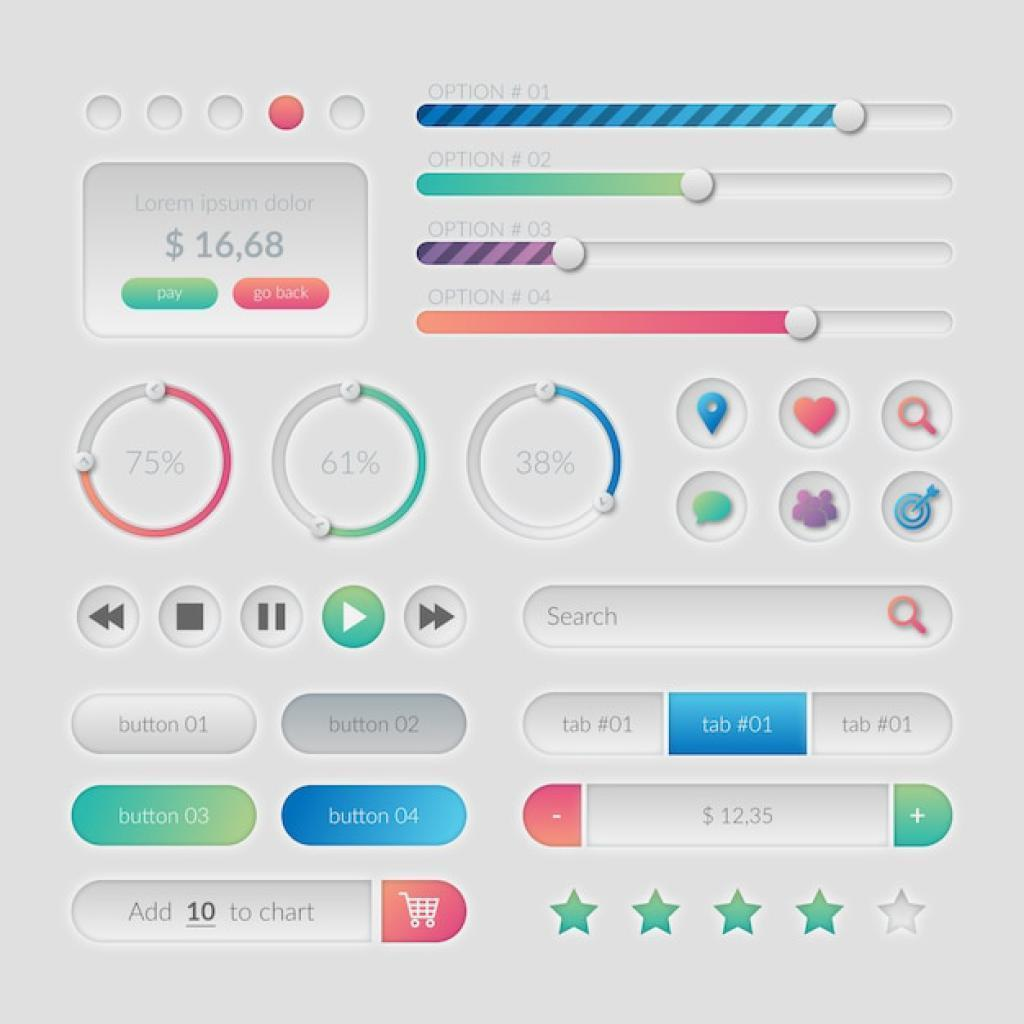button: (74, 881, 372, 942), (281, 787, 475, 852), (280, 691, 469, 755), (72, 787, 259, 848), (74, 695, 257, 755), (670, 694, 809, 759), (525, 694, 663, 756), (817, 694, 955, 755)
icon: (781, 470, 852, 546), (884, 377, 953, 455), (782, 377, 852, 449), (678, 380, 749, 448), (884, 474, 954, 542), (404, 584, 469, 654), (241, 585, 306, 652), (77, 583, 140, 650), (680, 472, 742, 537), (322, 587, 387, 649), (160, 587, 221, 650)
input: (522, 585, 955, 651), (587, 785, 888, 848)
slider: (406, 89, 972, 150), (409, 165, 982, 217), (409, 235, 977, 284), (413, 296, 977, 341)
